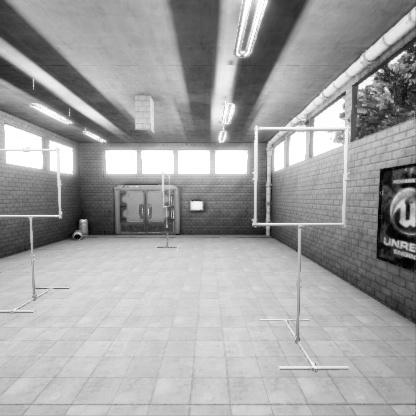gate: (257, 193, 359, 293), (2, 202, 71, 268), (162, 209, 169, 245)
